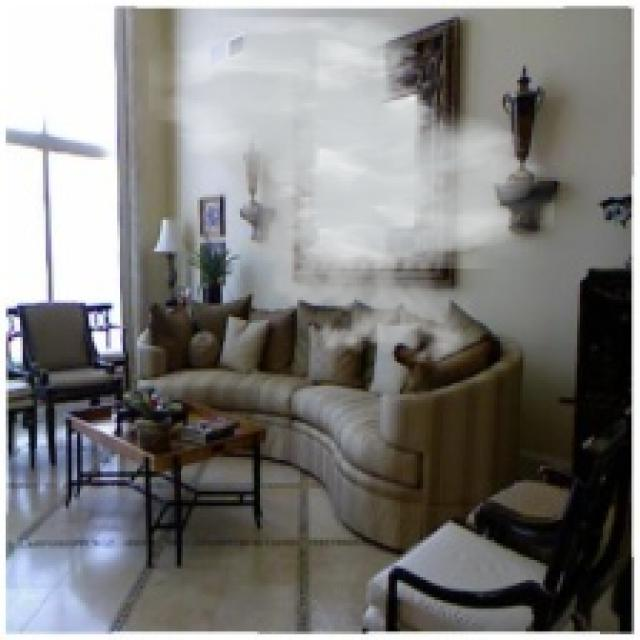smoke: (149, 17, 554, 374)
